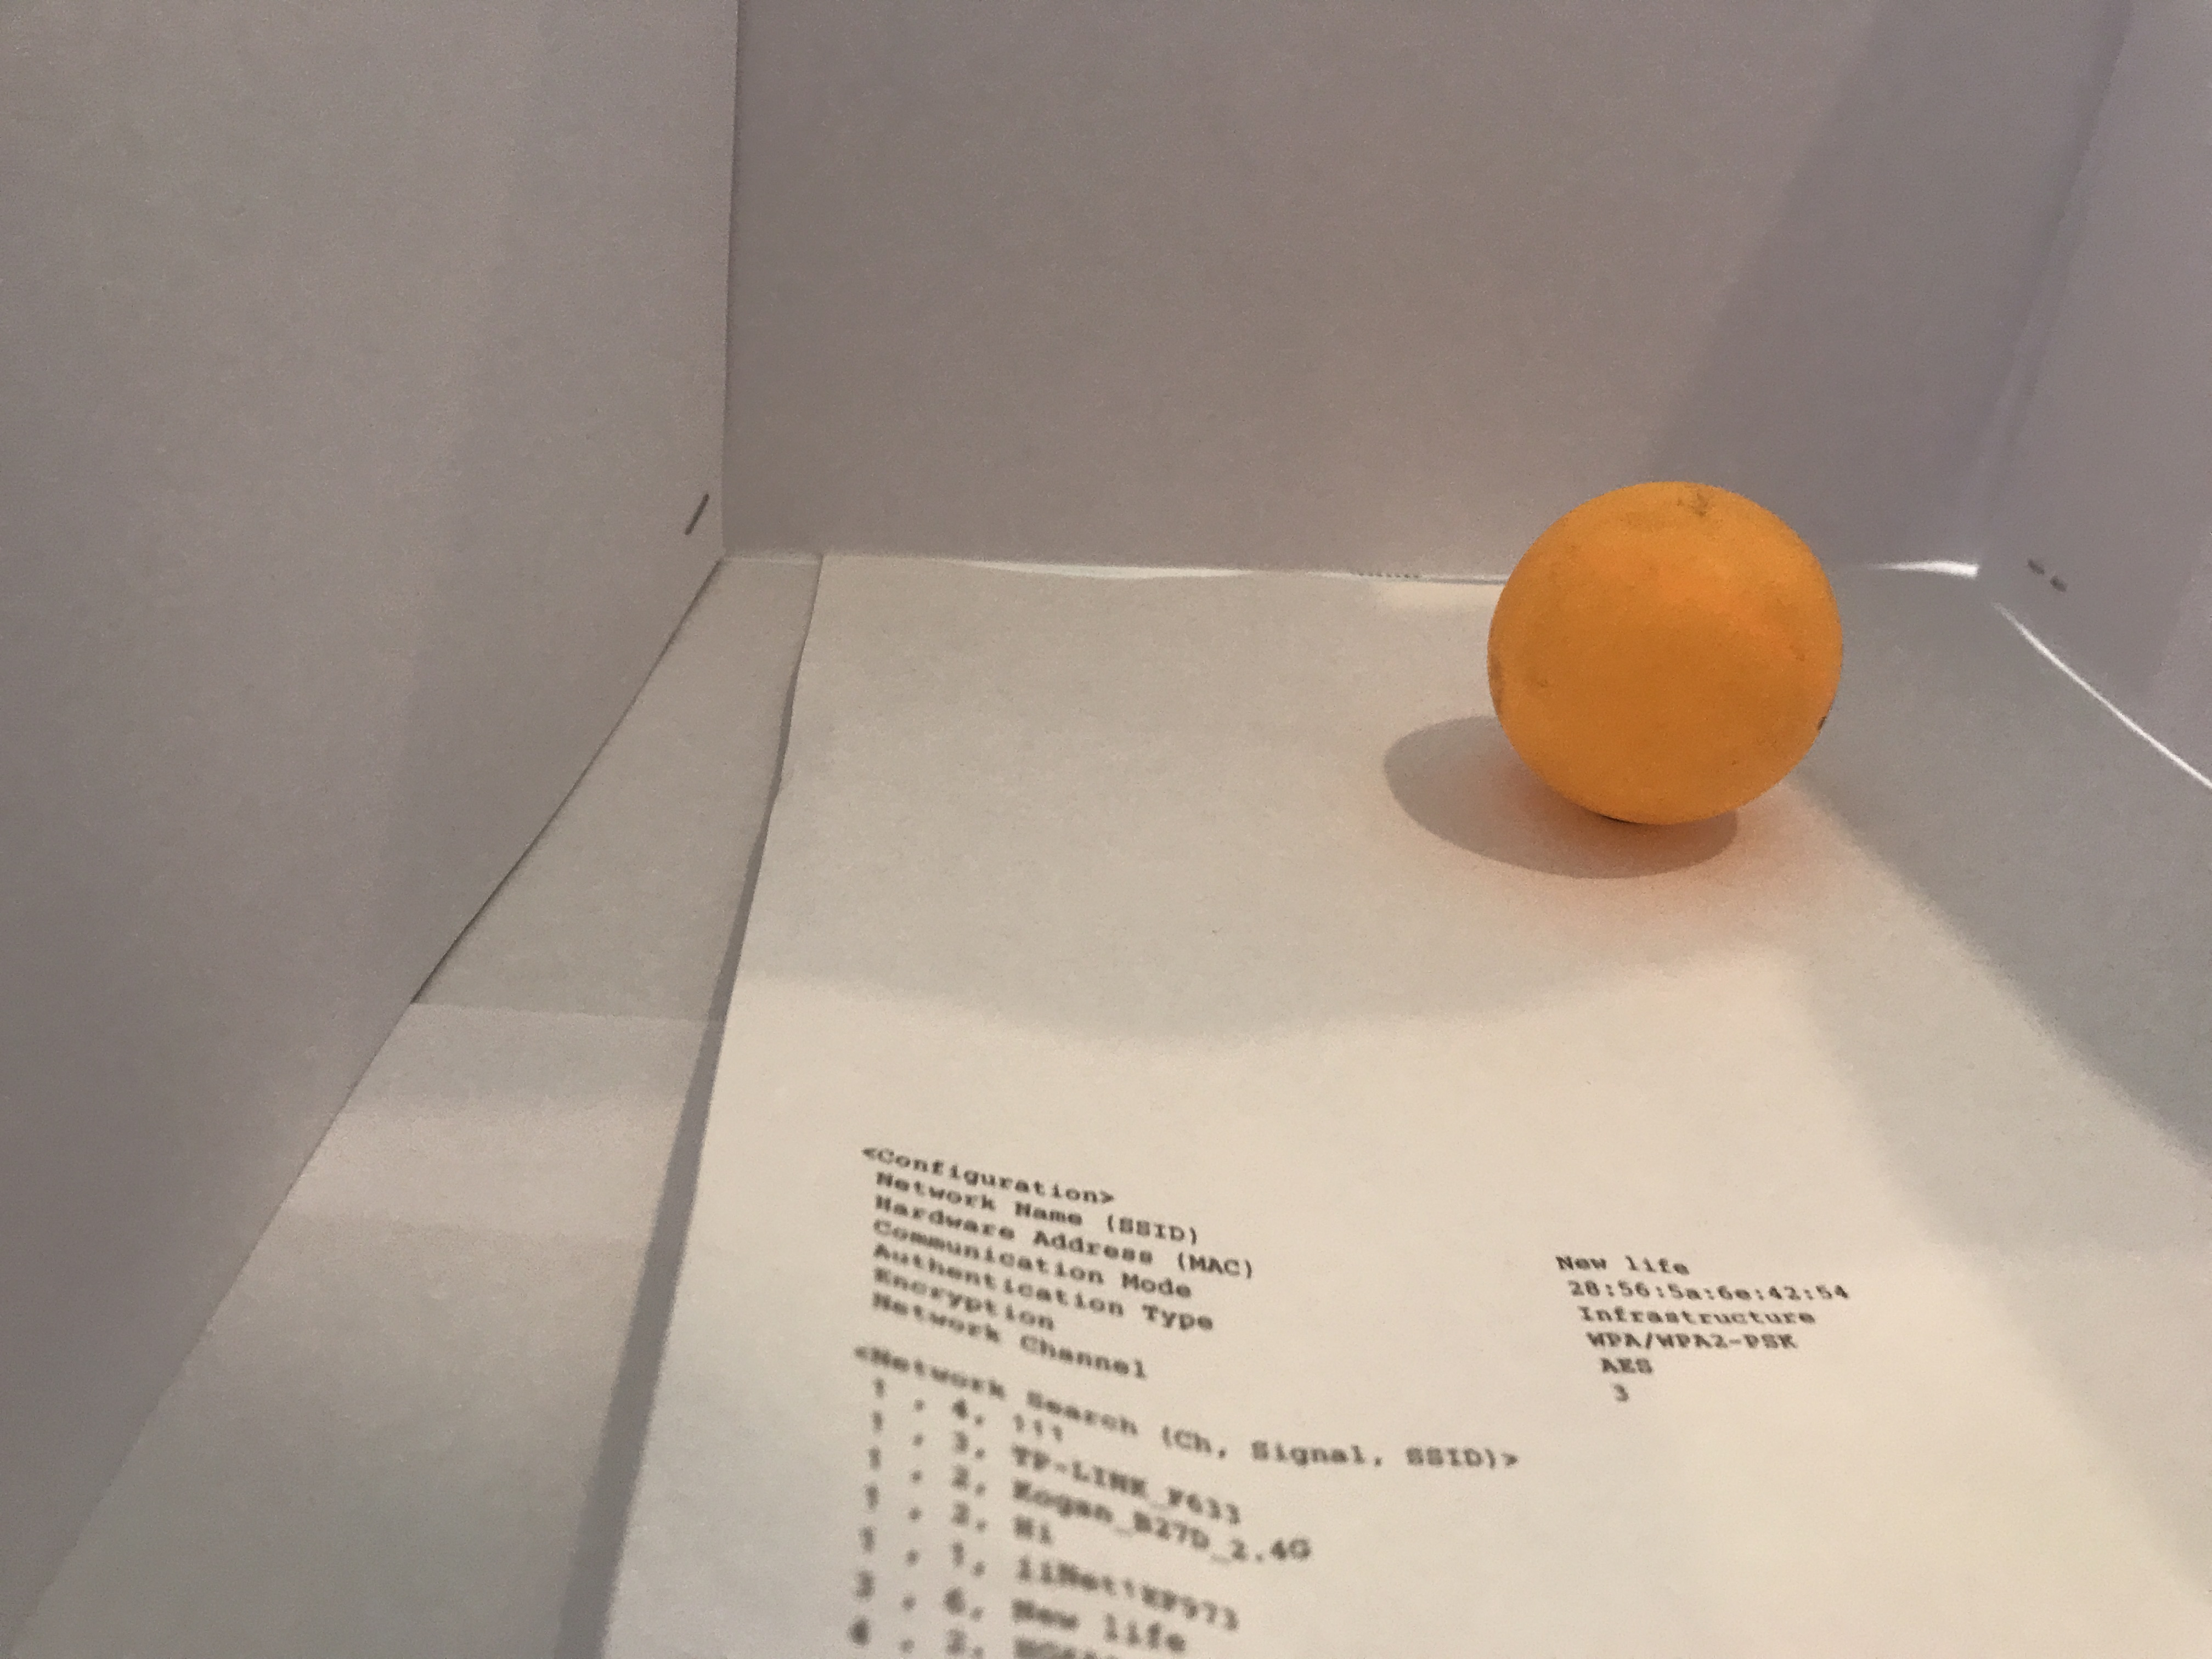pp: (1472, 469, 1848, 838)
